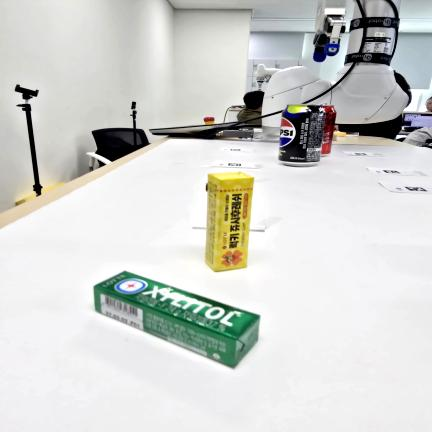gum_green: (93, 270, 261, 370)
gum_yellow: (204, 171, 254, 271)
